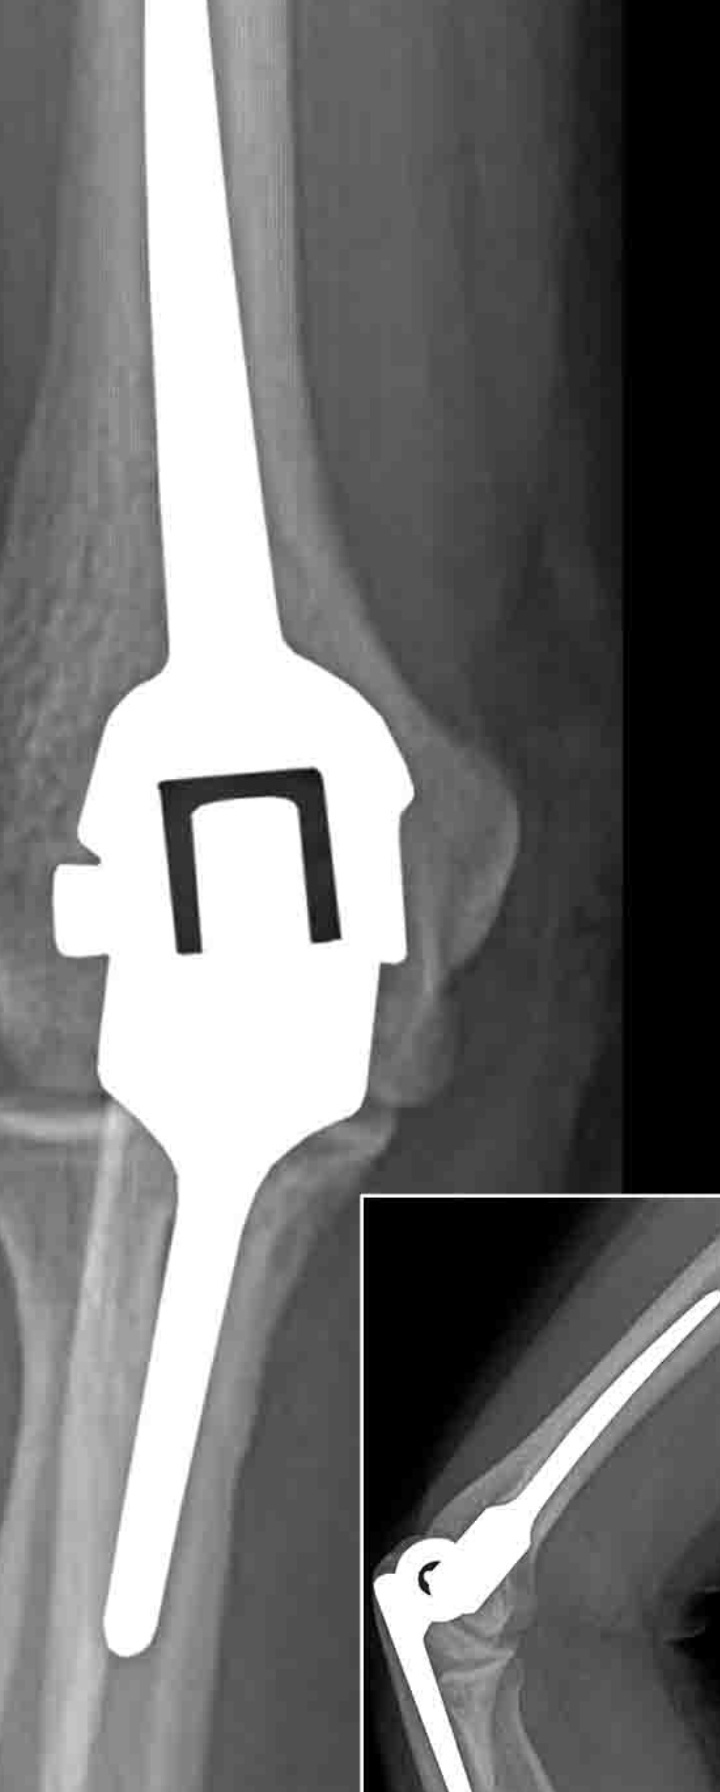Elbow - Osteonics - Stryker: (40, 2, 429, 1523), (365, 1232, 720, 1790)
